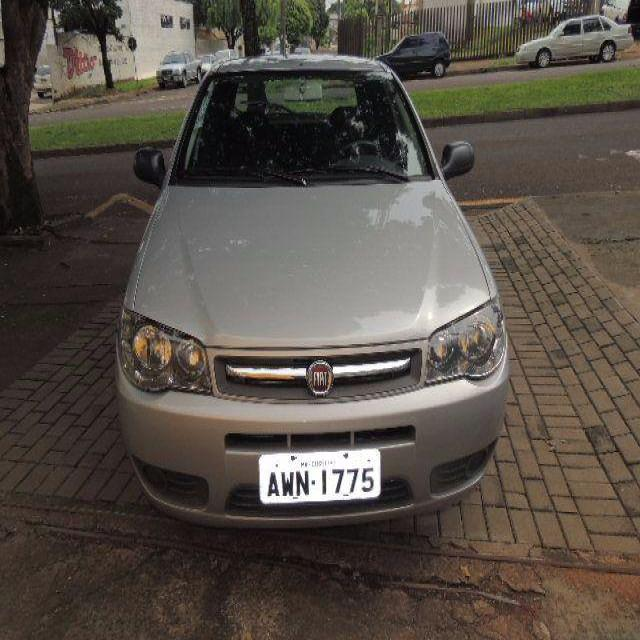Placa: (258, 447, 383, 509)
